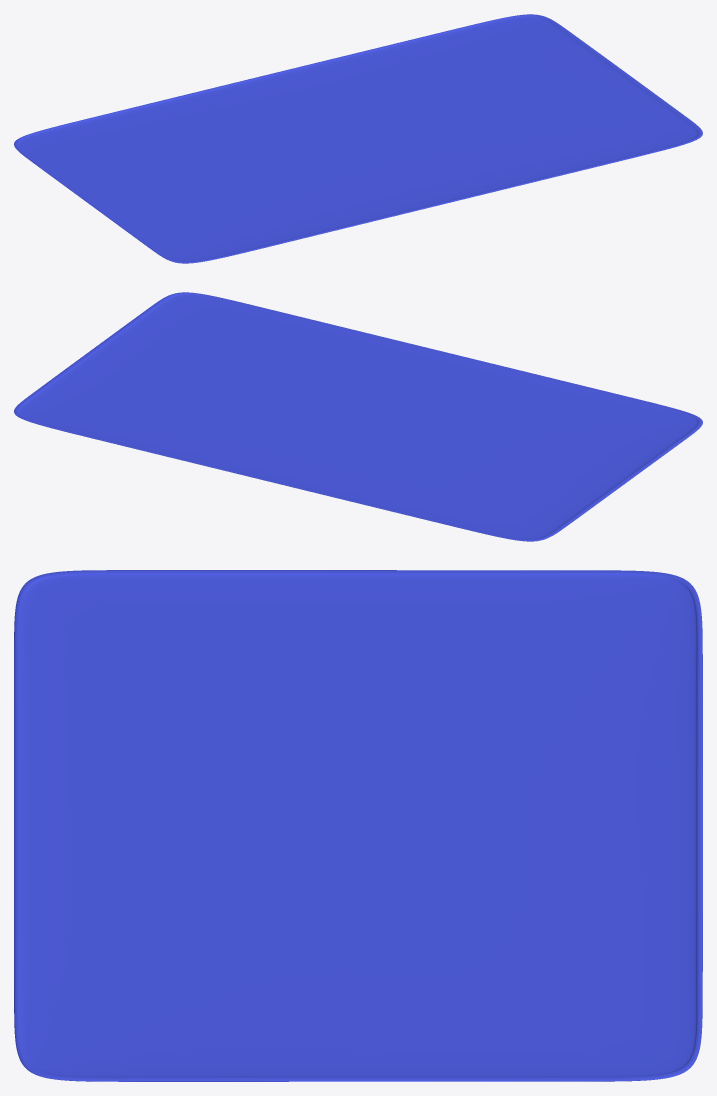
Rendered from bandeja.fbx.
3 renders of one model, top to bottom at view 1: azimuth 30°, elevation 25°; view 2: azimuth 150°, elevation 25°; view 3: azimuth 270°, elevation 25°, orthographic. The views are drawn at different scales.
Visible parts, largest first — view 1: Cube; view 2: Cube; view 3: Cube.
Part boxes in pixels (x1,y1,x2,y2): Cube: (14,14,702,263); Cube: (14,292,702,541); Cube: (14,570,702,1081).
Bounding box in the file's own units: 423 × 1.84 × 241.
